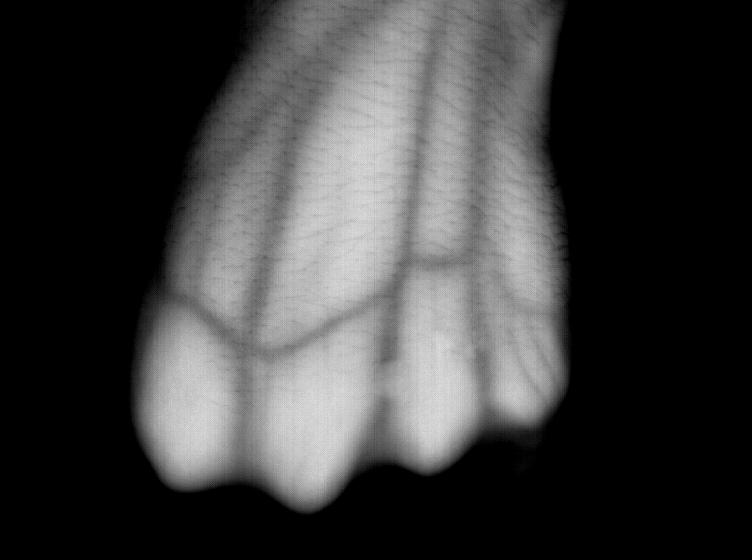Vein: (238, 28, 510, 363)
